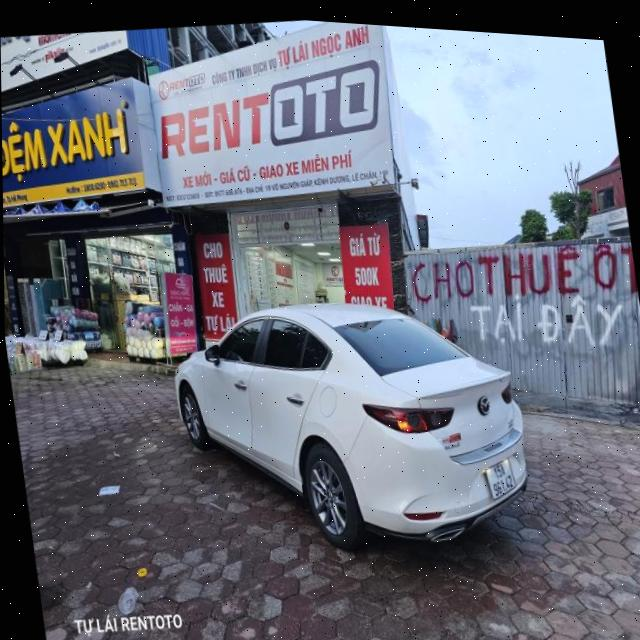car: (161, 266, 551, 585)
plate: (475, 453, 529, 505)
